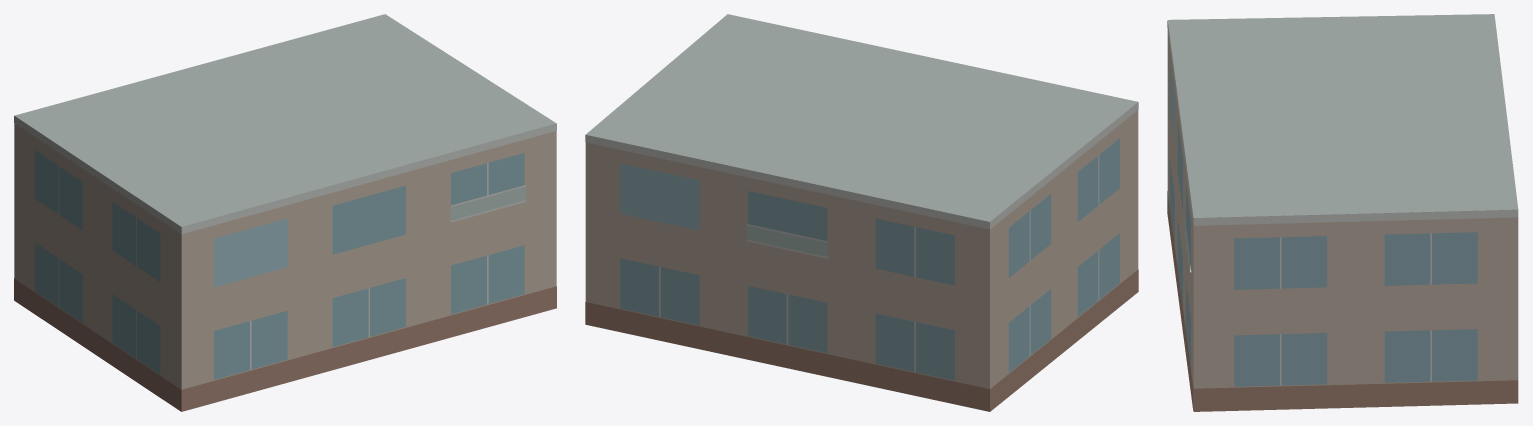
The model's file is survey-upis-32696740.glb.
The picture shows the model from 3 angles, left to right: view 1: azimuth 30°, elevation 25°; view 2: azimuth 150°, elevation 25°; view 3: azimuth 270°, elevation 25°; orthographic projection. The views are drawn at different scales.
Parts seen in each view (by area): view 1: survey-upis-32696740.tmp; view 2: survey-upis-32696740.tmp; view 3: survey-upis-32696740.tmp.
Boxes of the visible parts, box(x1,y1,x2,y2) form: survey-upis-32696740.tmp: box(14, 14, 556, 411); survey-upis-32696740.tmp: box(585, 14, 1138, 411); survey-upis-32696740.tmp: box(1167, 14, 1518, 411).
Bounding box in the file's own units: 13.79 × 6.1 × 10.02.
